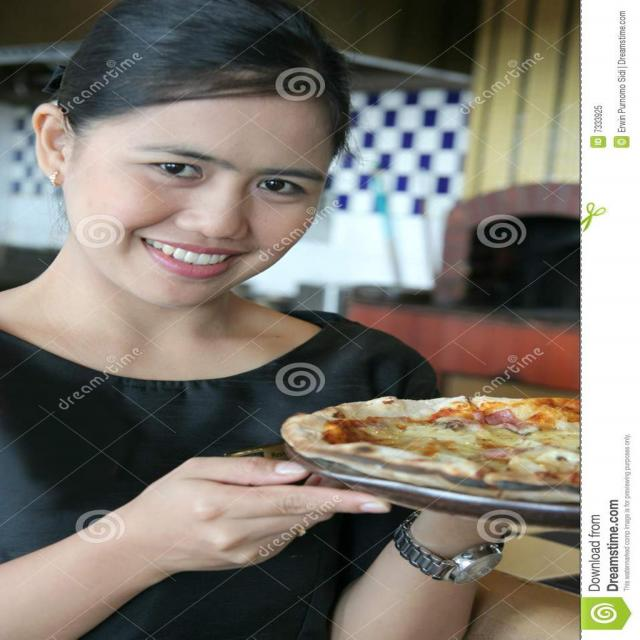nomask: (66, 59, 332, 306)
